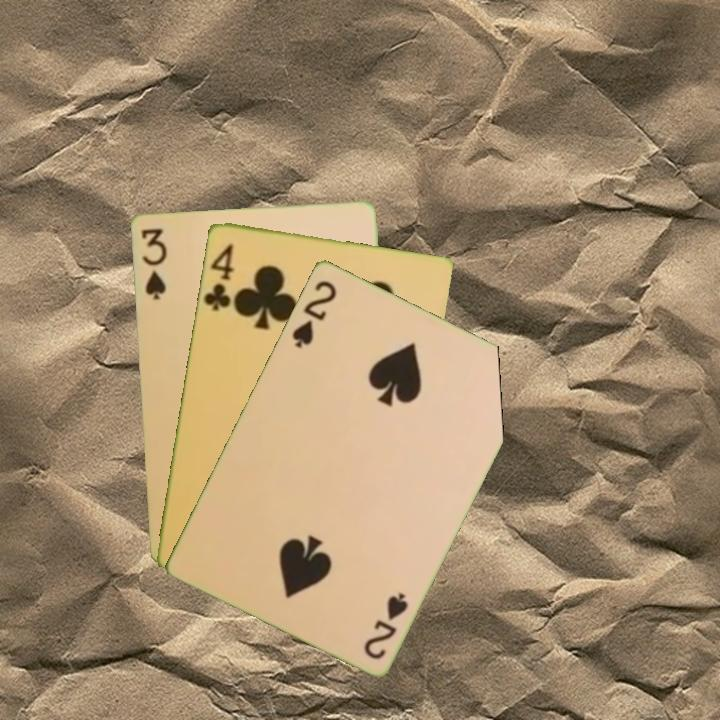2s: (288, 276, 340, 351), (360, 588, 411, 662)
3s: (137, 224, 169, 303)
4c: (200, 240, 236, 314)
